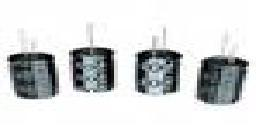Electrolytic-capacitor: (197, 25, 249, 108), (8, 26, 60, 100), (68, 21, 117, 95), (134, 21, 181, 96)
